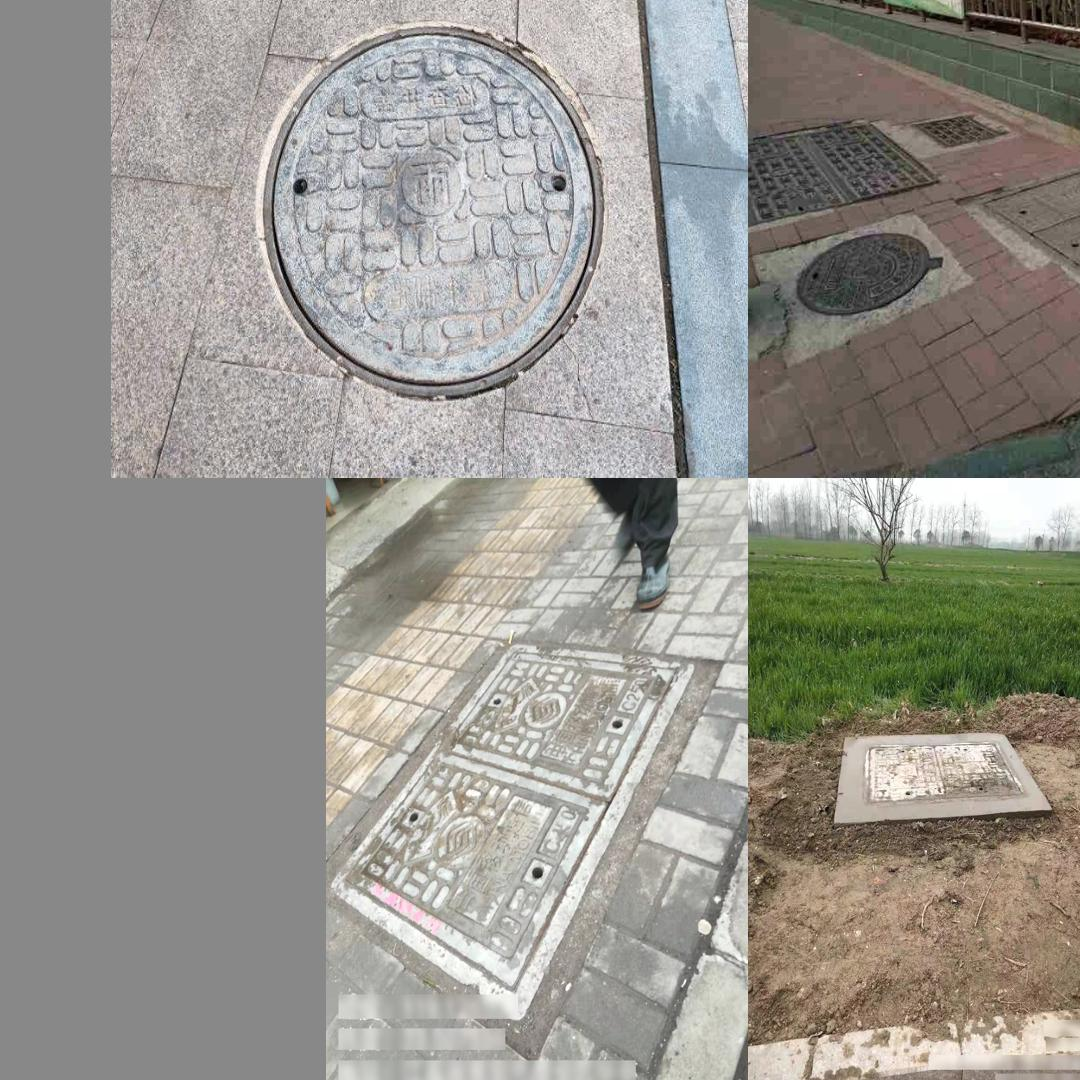good: (249, 11, 611, 414), (329, 643, 694, 1023), (833, 712, 1047, 823), (748, 118, 941, 234), (976, 154, 1080, 335), (796, 231, 944, 314), (906, 112, 1010, 149)
